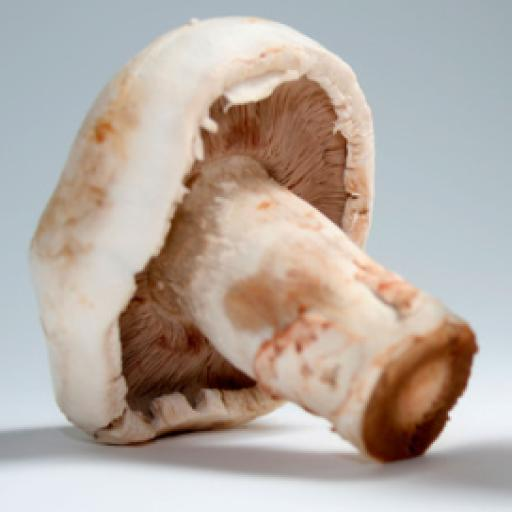Shiitake Mushroom: (25, 4, 485, 470)
